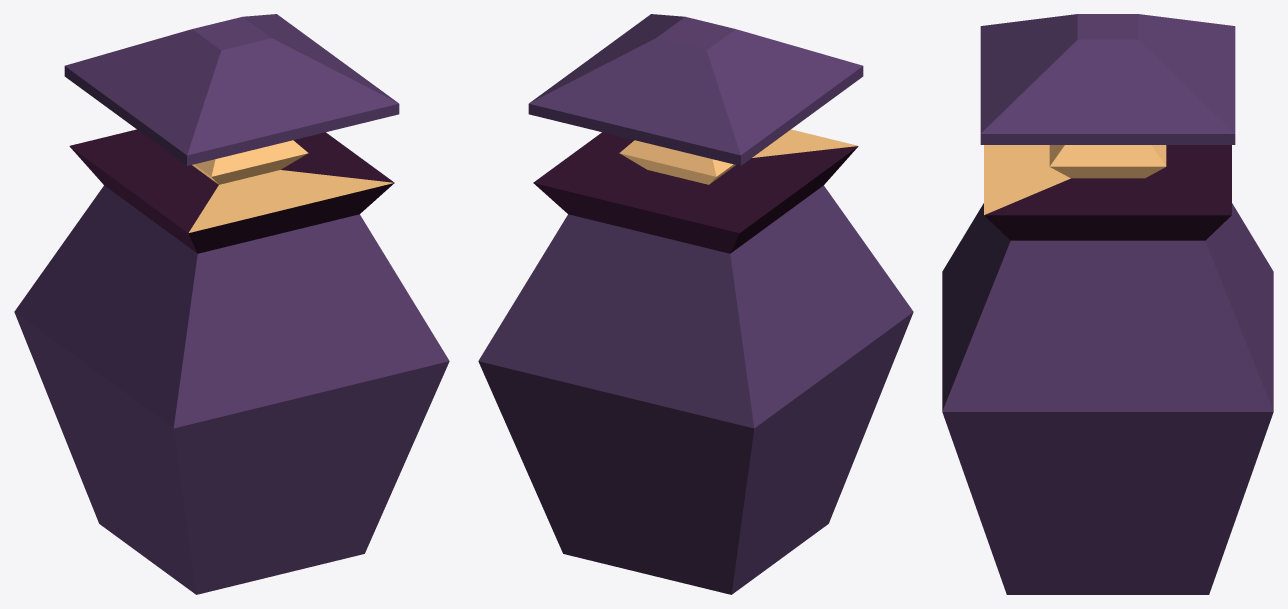
File: iksir8.fbx
3 renders of one model, left to right at view 1: azimuth 30°, elevation 25°; view 2: azimuth 150°, elevation 25°; view 3: azimuth 270°, elevation 25°, orthographic. The views are drawn at different scales.
Visible parts, largest first — view 1: iksir8; view 2: iksir8; view 3: iksir8.
Part boxes in pixels (box(x1,y1,x2,y2)): iksir8: box(14, 14, 449, 594); iksir8: box(478, 14, 913, 594); iksir8: box(942, 14, 1273, 594).
Size of the model in its own units: 286 by 499 by 286.
